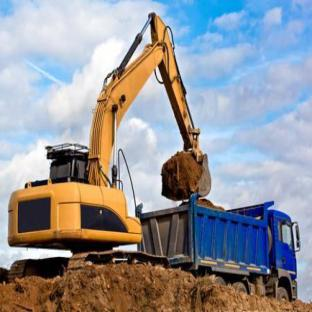ExcavationMachinery: (17, 13, 214, 284)
Vehicle: (132, 200, 304, 297)
